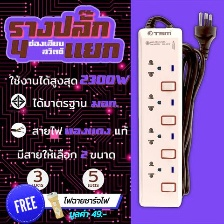three_eye_plug: (134, 25, 184, 211)
